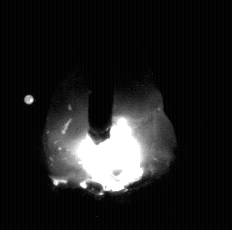arame: (89, 0, 114, 144)
poca: (43, 0, 176, 230)
